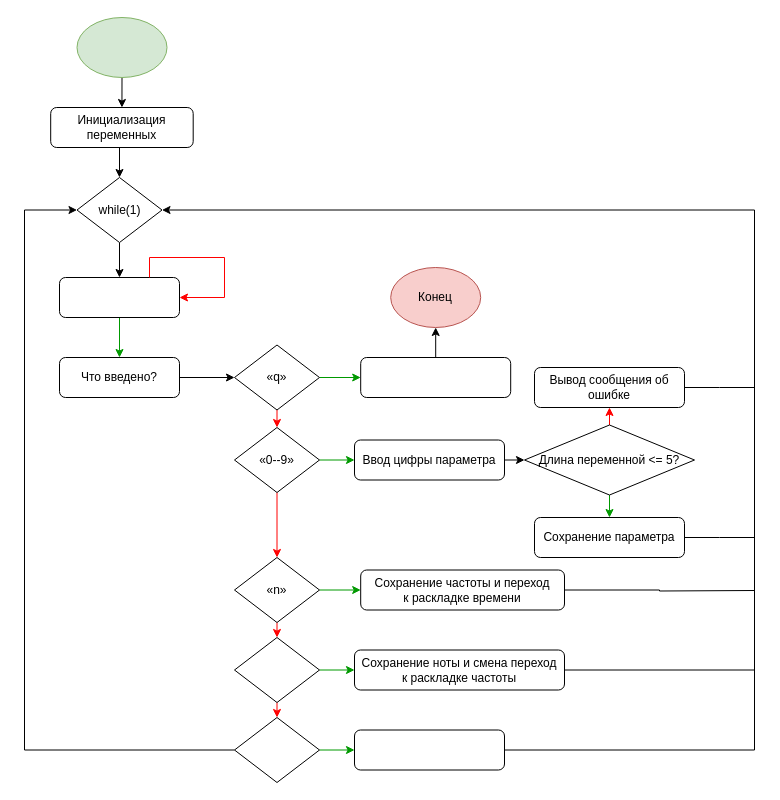
Some shapes in this 780 by 800 pixel diagram are drawn without their labels. Each missing label, with the centre of its shape:
"«s»" belongs at (x=277, y=669).
"боковая кнопка" belongs at (x=277, y=749).
"Выход из режима настройки" belongs at (x=435, y=377).
"Начало" belongs at (x=121, y=47).
"Ожидание ввода" belongs at (x=119, y=297).
"Сохранение мелодии" belongs at (x=429, y=749).
